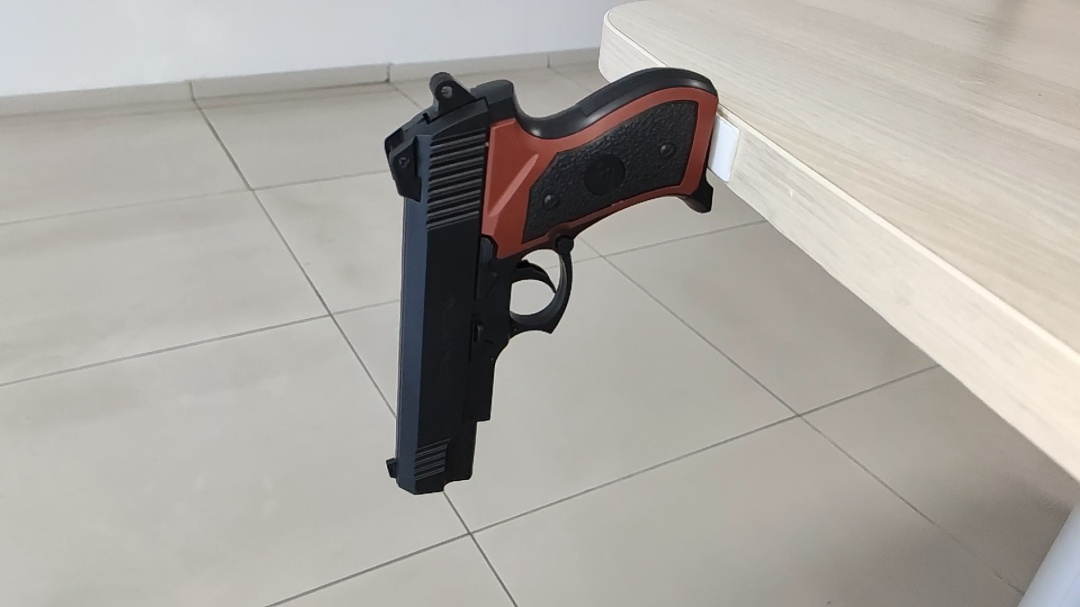gun: (375, 63, 723, 500)
